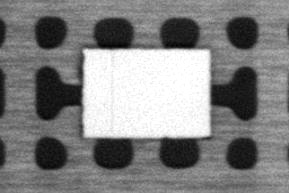DIE_CRACK: (105, 51, 116, 132)
